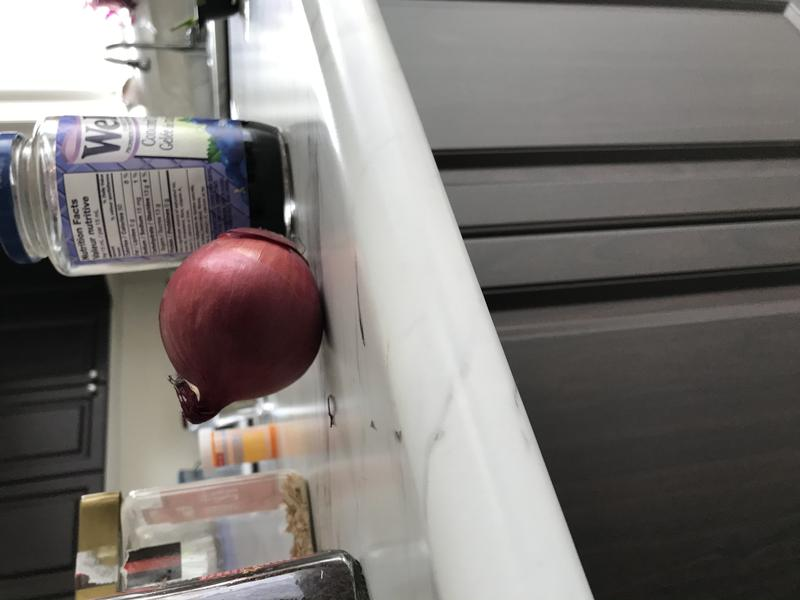purple_onion: (148, 218, 338, 434)
